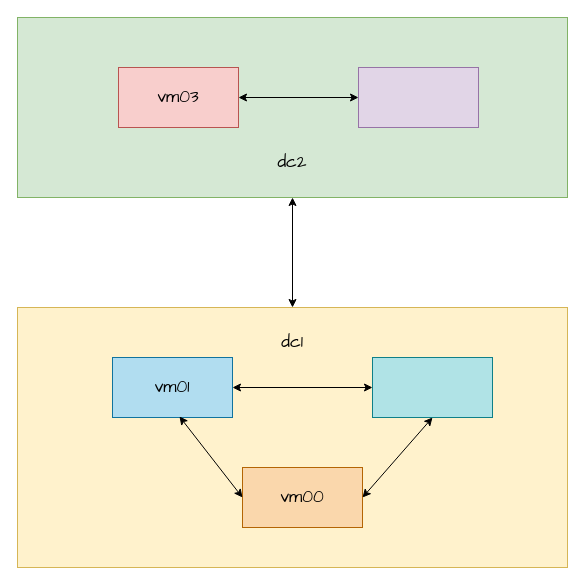
The diagram is 585 pixels wide and 585 high, and some of its shapes have lost their labels. The shapes that lost their labels are listed below. From the top down, each one's centre as x and y in pixels, then its label:
the point at 418,97: vm04
the point at 432,387: vm02
